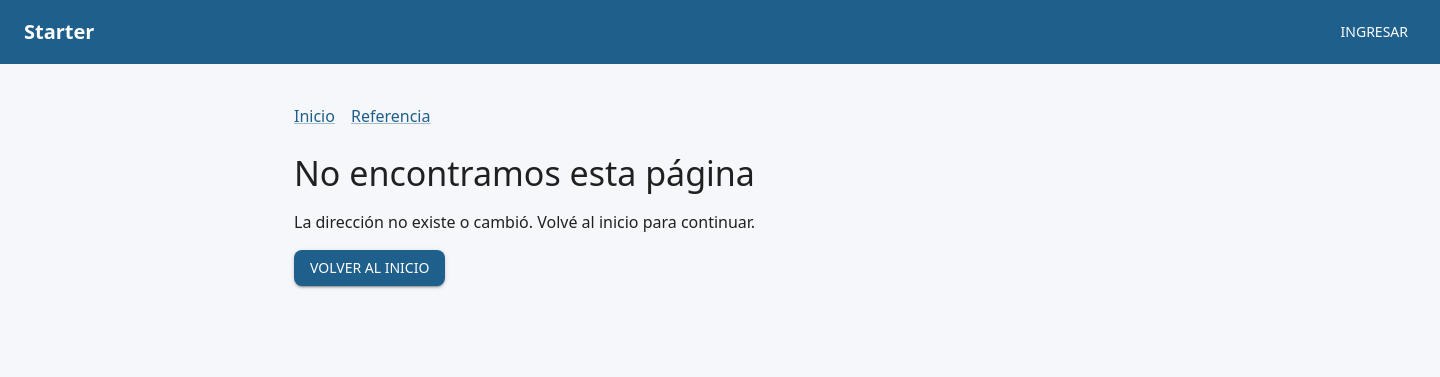
AppRoutes › una ruta desconocida muestra la página no encontrada con vuelta al inicio
Expected: the heading "No encontramos esta página" is shown, [294,152,755,194]
What coordinates should you click on to do the following:
click the link "Volver al inicio"
I would click on:
 (370, 268)
Its box is [294,250,445,286].
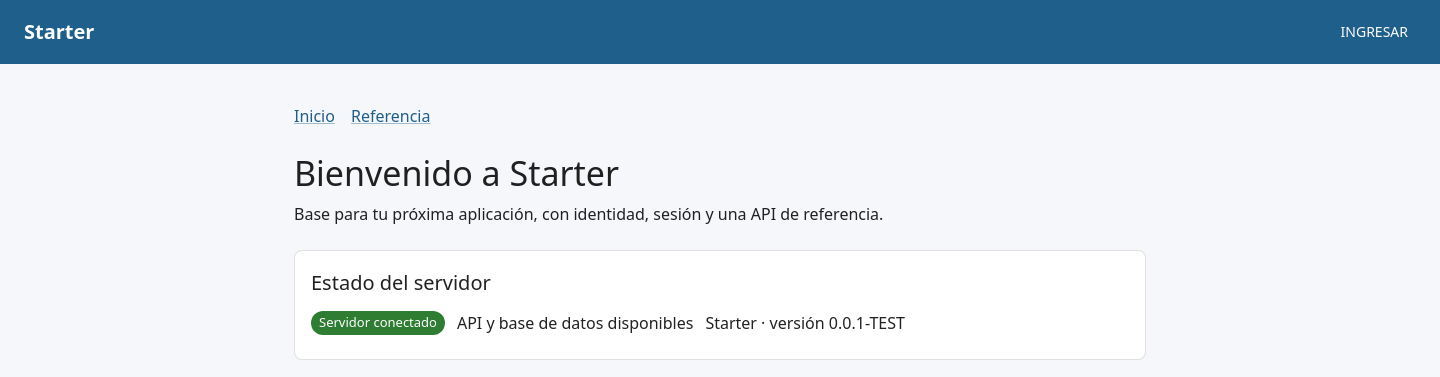
Expected: the text "Starter · versión 0.0.1-TEST" is shown, [705,311,905,335]
